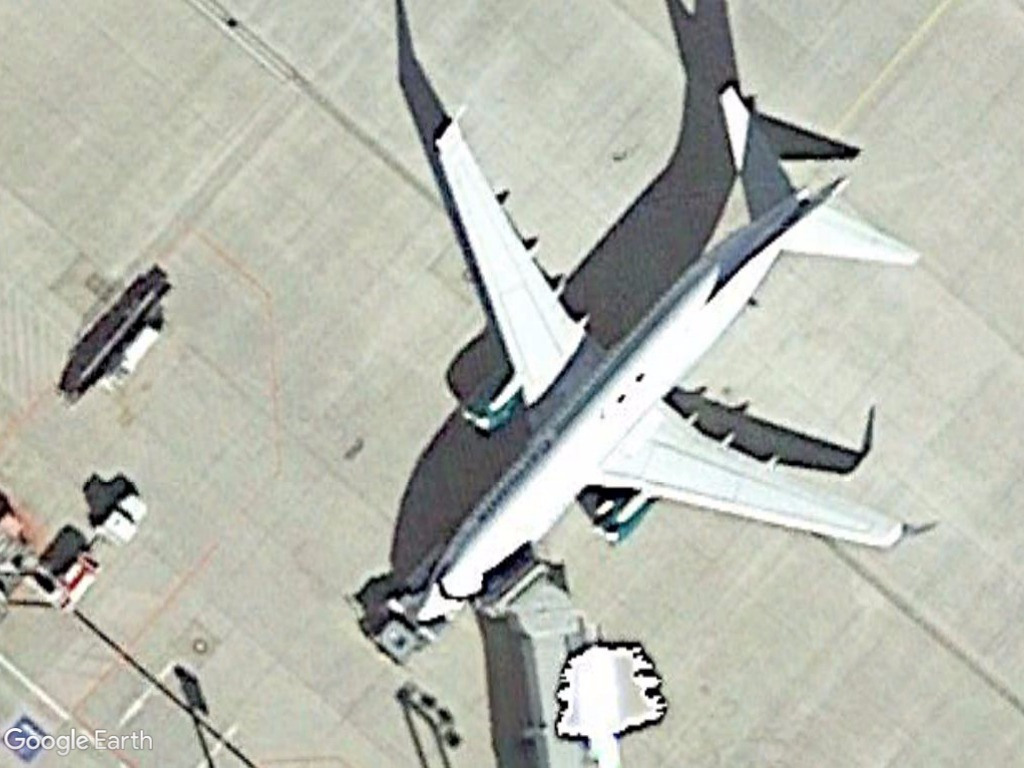airliner: (411, 85, 925, 628)
